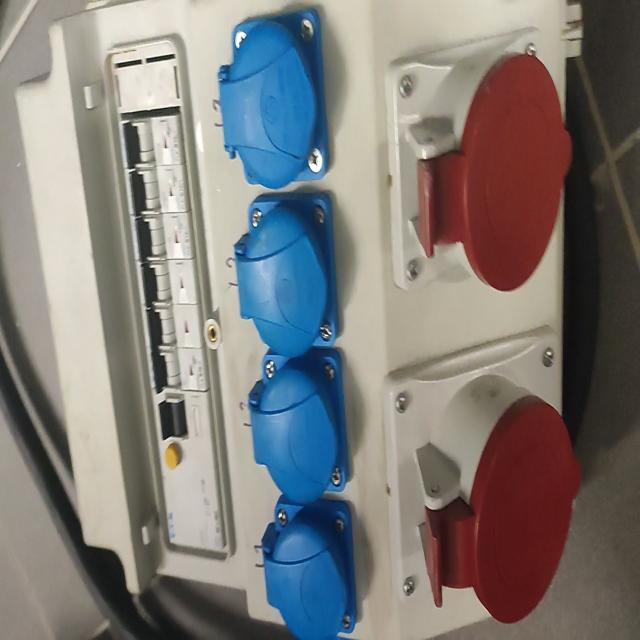400v socket: (382, 322, 580, 626), (386, 25, 572, 292)
house plug covered: (220, 8, 329, 190), (234, 192, 338, 356), (249, 345, 349, 503), (260, 496, 358, 640)
